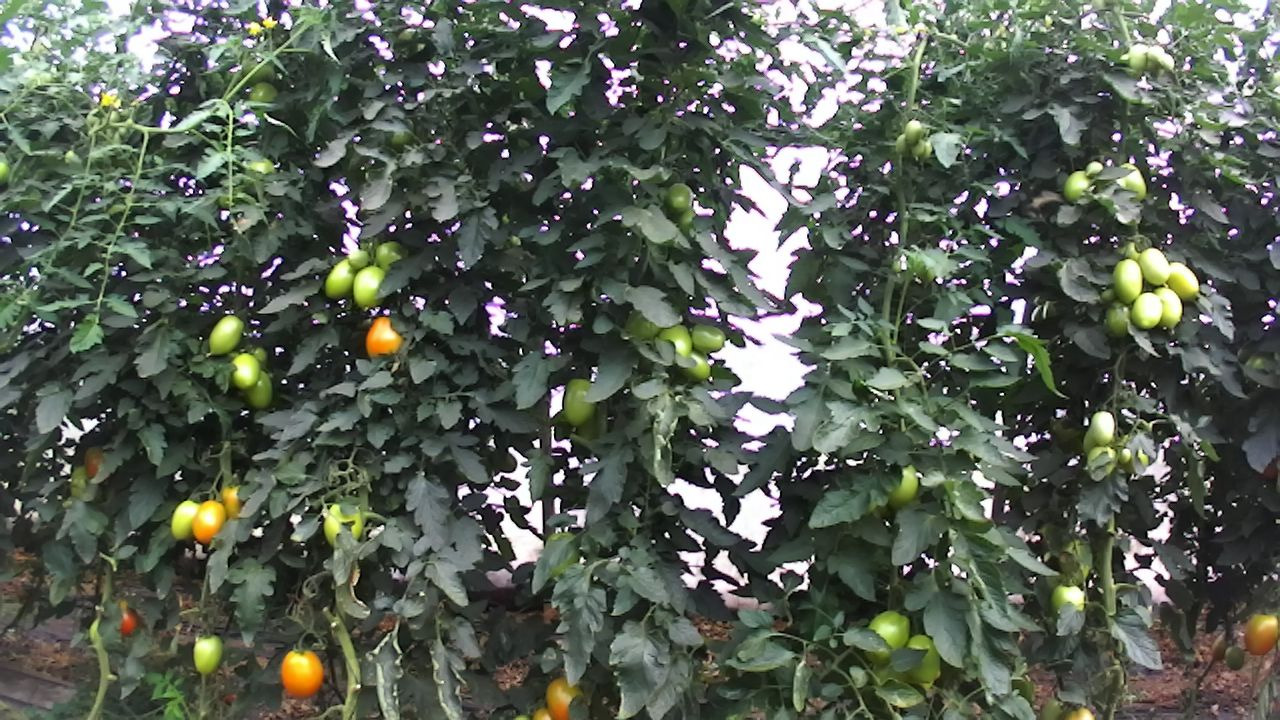tomato: (863, 605, 912, 664), (277, 645, 326, 700), (902, 628, 940, 686), (541, 674, 586, 720), (559, 376, 598, 429), (203, 312, 245, 360), (885, 457, 921, 512), (363, 314, 405, 361), (350, 264, 391, 309), (1244, 609, 1280, 659), (1110, 256, 1145, 306), (191, 498, 227, 545), (1165, 257, 1201, 303), (322, 256, 359, 300), (1135, 244, 1172, 287), (1151, 283, 1184, 331), (241, 366, 275, 410), (169, 497, 202, 542), (191, 633, 225, 676), (1102, 296, 1133, 341), (657, 321, 696, 356), (1130, 290, 1164, 329), (1046, 581, 1085, 615), (228, 352, 261, 392), (688, 321, 728, 353), (1062, 166, 1094, 204), (680, 347, 714, 382), (1088, 409, 1117, 449), (372, 238, 409, 269), (1120, 161, 1147, 201), (665, 181, 695, 216), (1223, 644, 1245, 671), (902, 118, 923, 146), (345, 248, 371, 270)
